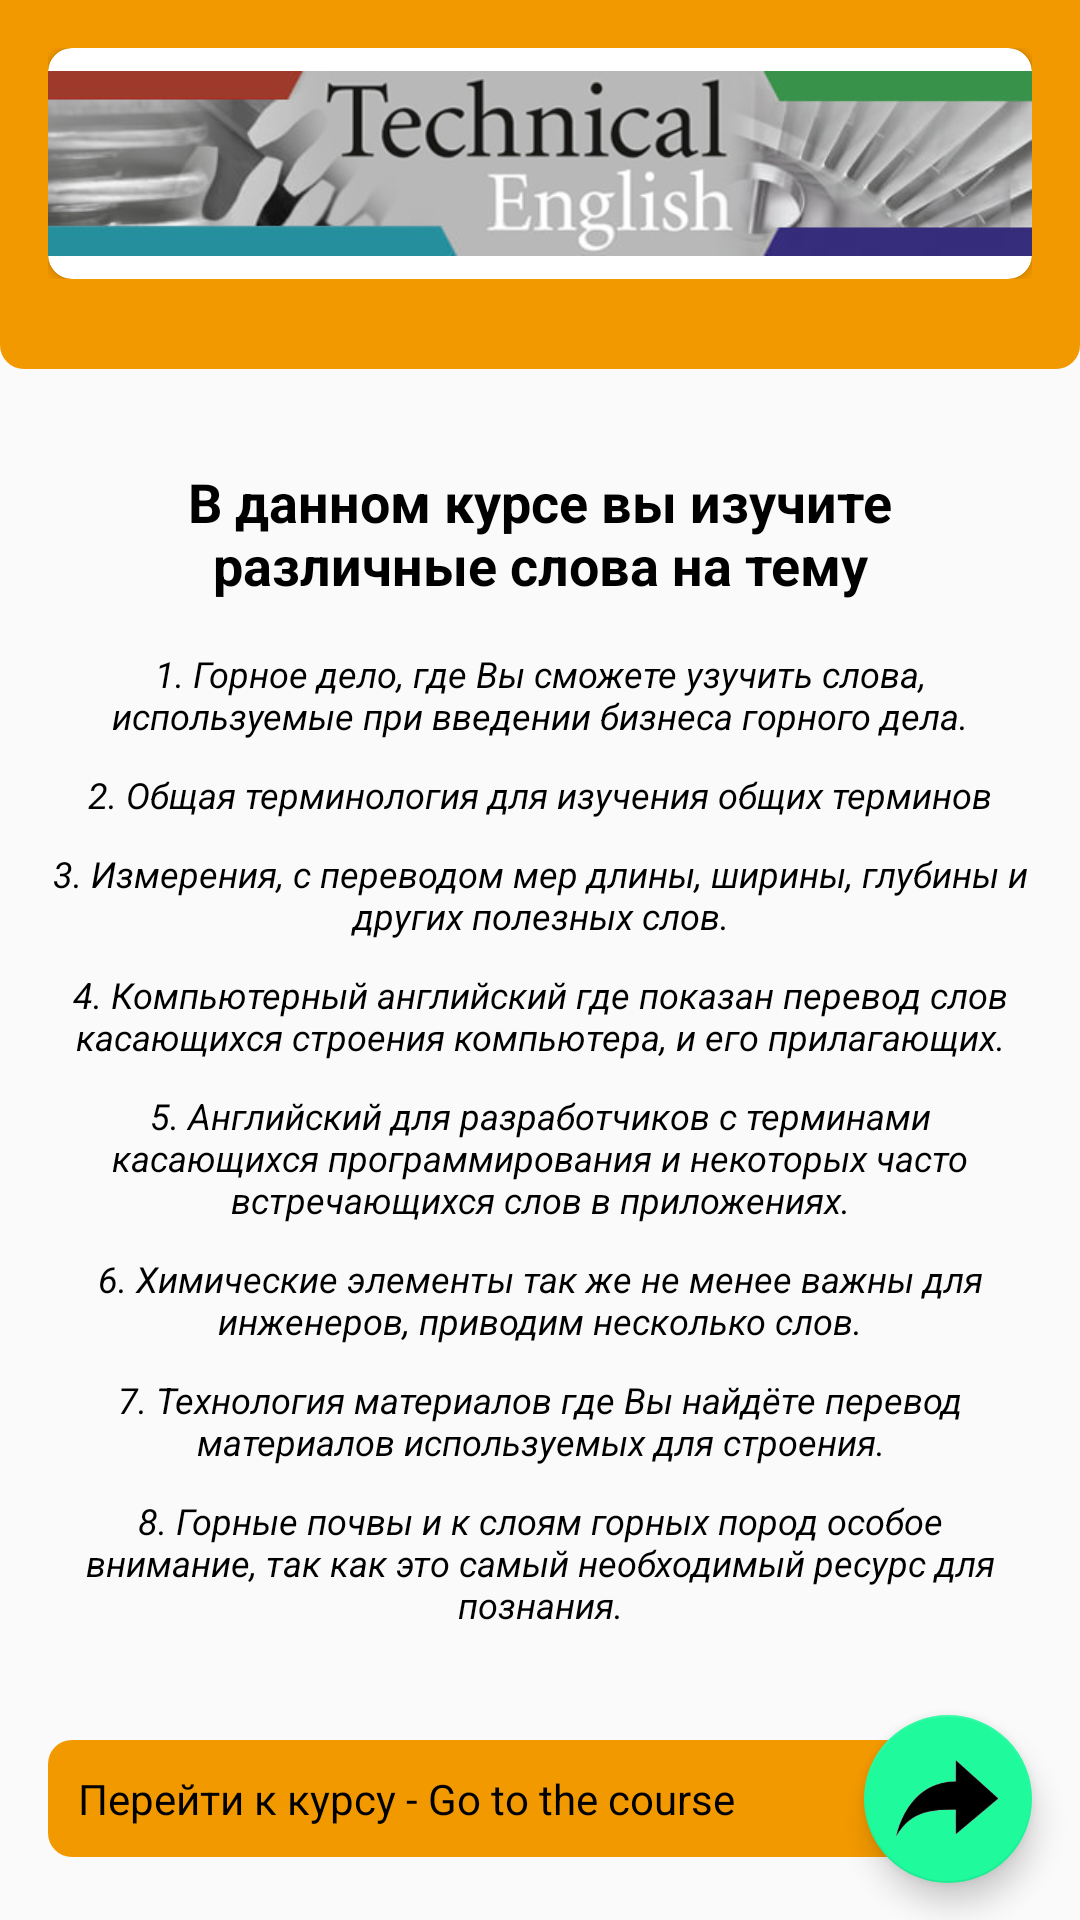

Where to tap for icons on this 1080px×1920px app screen, as point (x, y):
further: point (948, 1799)
